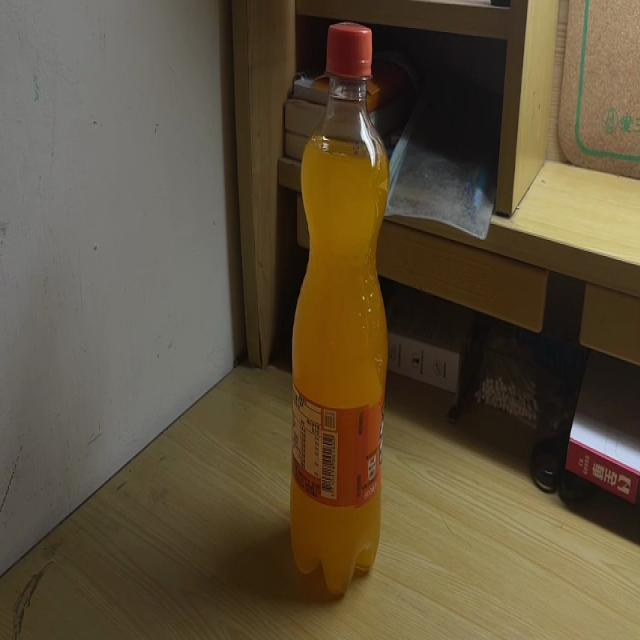Fanta: (292, 19, 388, 596)
